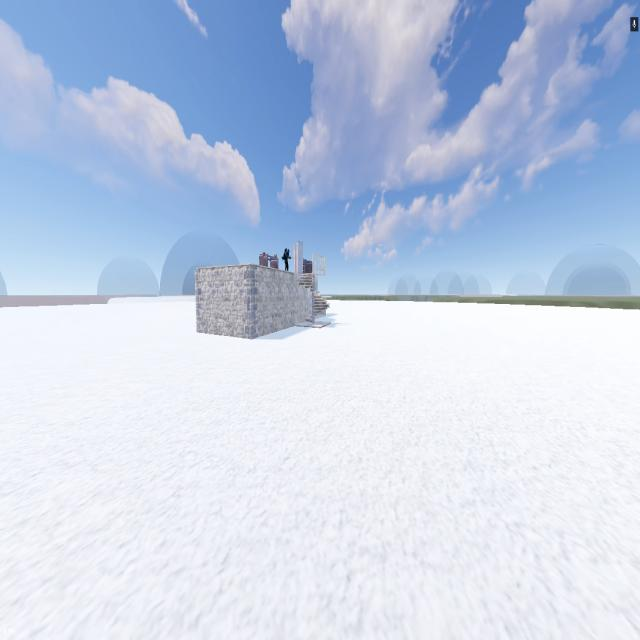Player: (283, 248, 291, 271)
